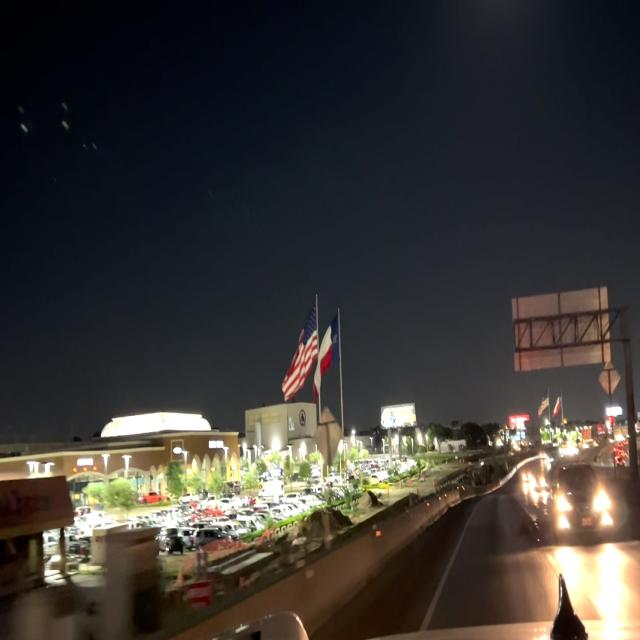back-of-sign: (509, 287, 621, 398), (313, 402, 343, 469)
